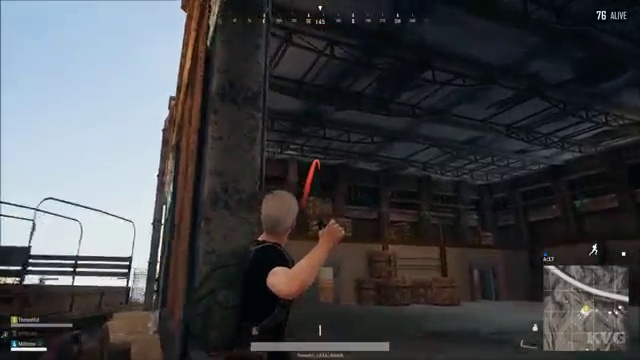Player: (172, 180, 372, 314)
